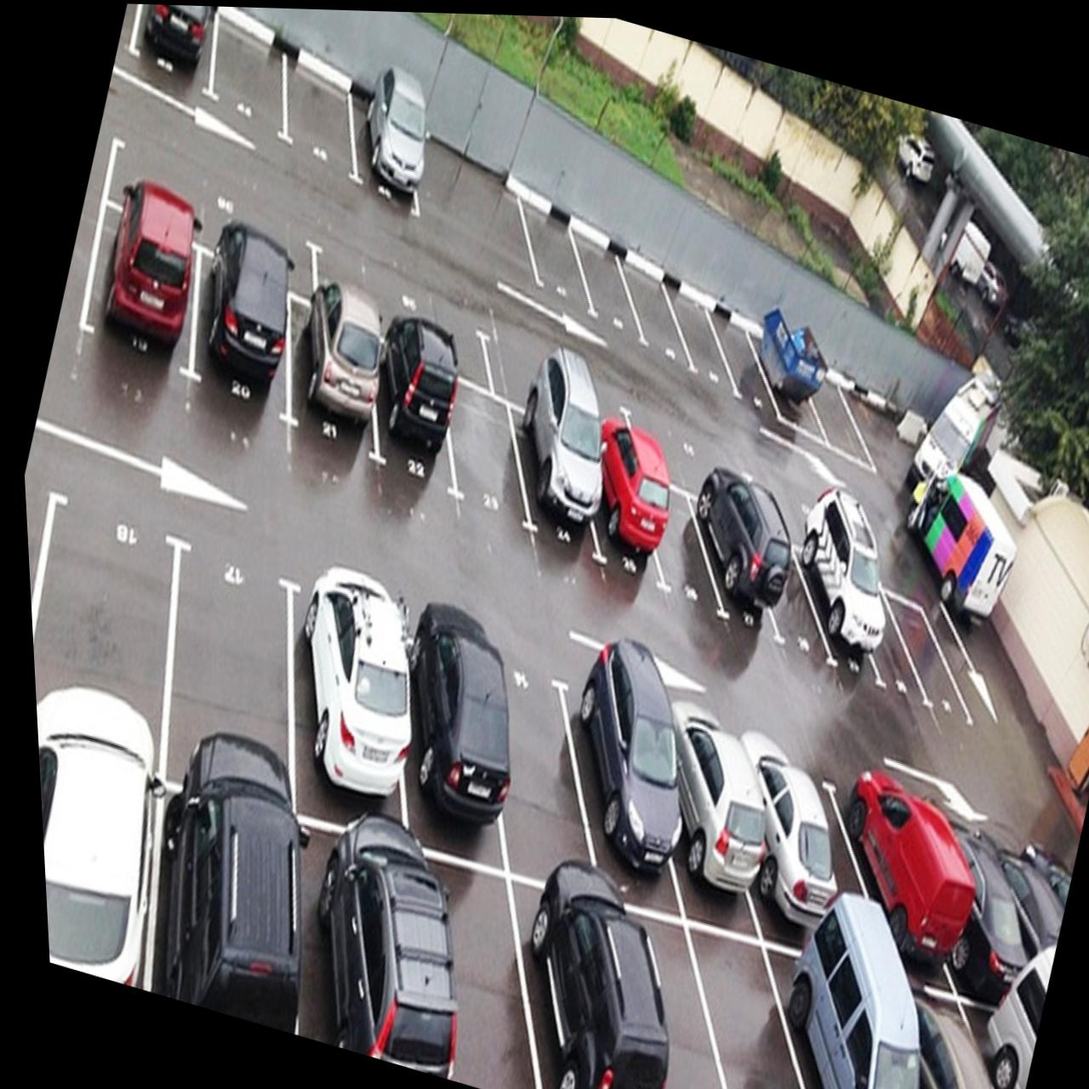cars: (370, 598, 548, 860), (129, 783, 317, 1026), (267, 820, 440, 1062), (391, 853, 568, 1089), (270, 565, 434, 819), (544, 663, 709, 893), (489, 873, 664, 1089), (749, 915, 951, 1089), (39, 747, 177, 986), (823, 766, 982, 969), (630, 702, 776, 917), (713, 741, 860, 951), (61, 215, 212, 395), (910, 811, 1045, 997), (179, 259, 309, 422), (264, 309, 395, 460), (774, 535, 899, 685), (355, 318, 472, 478), (838, 980, 1008, 1089), (491, 405, 610, 558), (566, 433, 678, 586), (679, 489, 790, 636), (337, 92, 439, 225), (117, 3, 230, 100)
empty: (464, 632, 635, 897), (152, 540, 315, 791), (26, 493, 192, 737), (567, 891, 750, 1089), (656, 913, 843, 1089), (98, 139, 324, 274), (305, 229, 499, 361), (774, 758, 914, 931), (822, 551, 956, 719), (860, 577, 992, 730), (756, 468, 913, 578), (483, 337, 642, 439), (434, 381, 545, 527), (261, 59, 376, 193), (627, 476, 731, 621), (734, 523, 840, 658), (197, 15, 304, 143), (621, 405, 760, 493), (556, 217, 652, 336), (694, 302, 789, 415), (509, 202, 604, 309), (658, 290, 746, 390), (611, 256, 698, 353)
